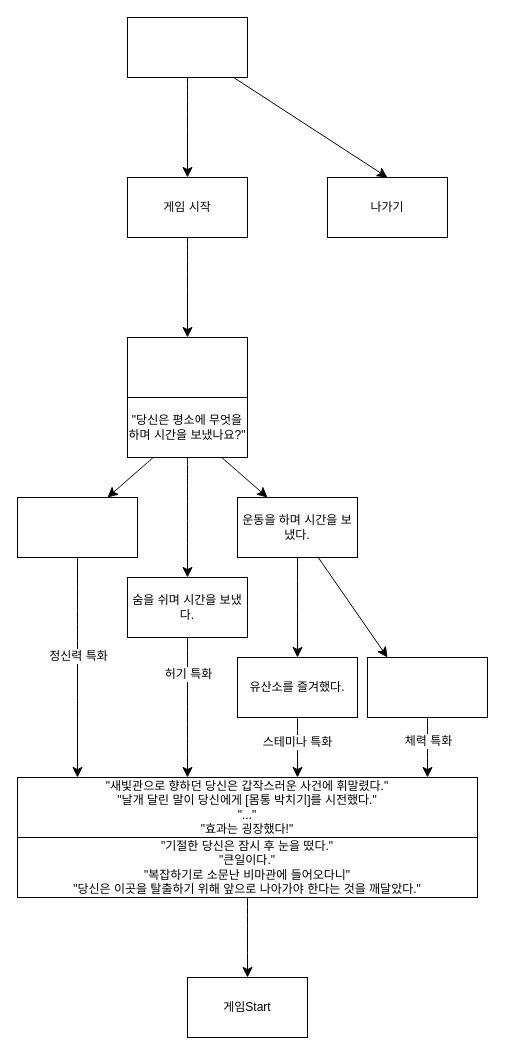
Some shapes in this 505 by 1055 pixel diagram are drawn without their labels. The shapes that lost their labels are listed below. From the top down, each one's centre as x and y in pixels, then its label:
[187,47]: 메인화면
[187,367]: "당신은 대한민국 서울 노원구에 사는 평범한 대학생입니다."
[77,527]: 게임을 하며 시간을 보냈다.
[427,687]: 무산소를 즐겨했다.
